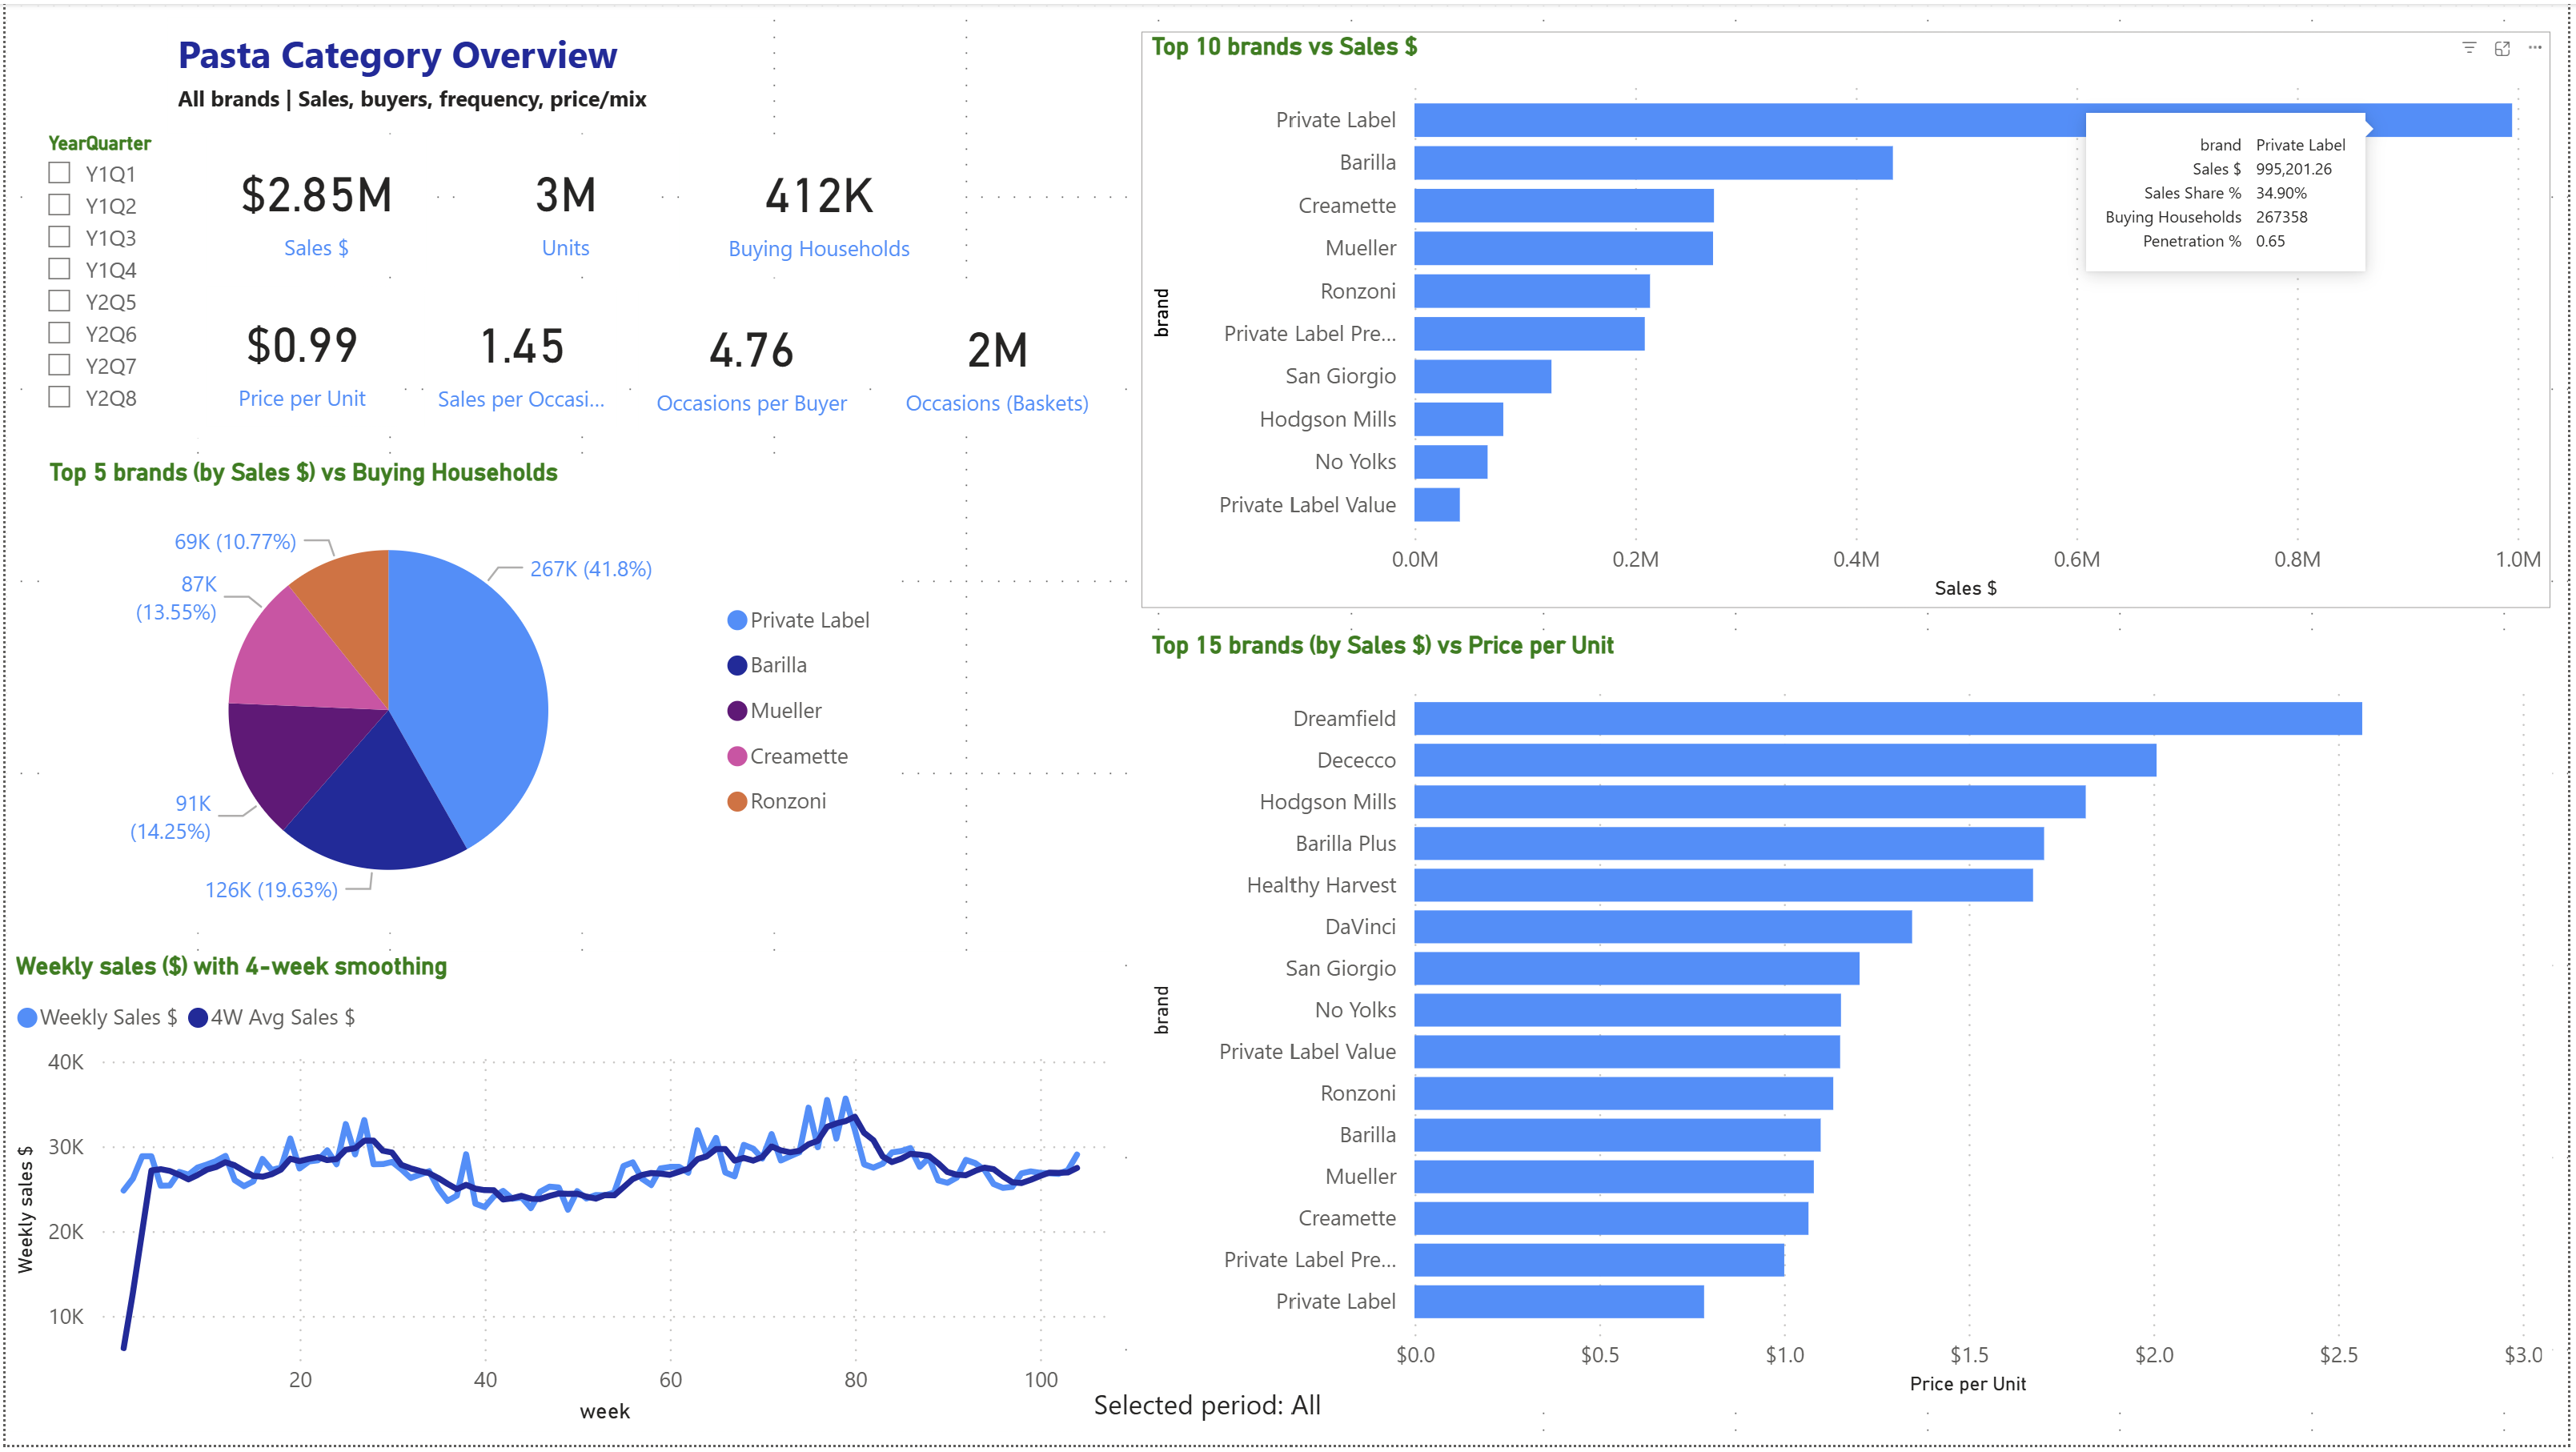

Layout of this report page (visuals, bound fields, positions):
{"tool":"powerbi","page":{"name":"01 Category Overview","canvas":[1280,720],"ordinal":0},"visuals":[{"type":"slicer","fields":{"Values":["DimDay.YearQuarter"]},"box":[8.4,58.8,91.8,157.8],"z":0},{"type":"card","fields":{"Values":["zz_Measures.Sales $"]},"box":[100.2,66,109.8,69.6],"z":1000},{"type":"card","fields":{"Values":["zz_Measures.Units"]},"box":[231.6,66,96,69.6],"z":2000},{"type":"card","fields":{"Values":["zz_Measures.Price per Unit"]},"box":[100,141,95.3,70],"z":3000},{"type":"card","fields":{"Values":["zz_Measures.Buyers (HH)"]},"box":[336.6,66,139.2,70.8],"z":4000},{"type":"card","fields":{"Values":["zz_Measures.Frequency (Occasions per Buyer)"]},"box":[316,143.3,112.7,70],"z":5000},{"type":"card","fields":{"Values":["zz_Measures.Sales per Occasion"]},"box":[209.3,141.7,96,70],"z":6000},{"type":"lineChart","title":"Weekly sales ($) with 4-week smoothing","fields":{"Y":["zz_Measures.Weekly Sales $","zz_Measures.Sales $ (4W Avg)"],"Category":["DimDay.week"]},"box":[0,473.3,554.7,240],"z":7000},{"type":"clusteredBarChart","title":"Top 10 brands vs Sales $","fields":{"Category":["DimProduct.brand"],"Y":["zz_Measures.Sales $"]},"box":[567.6,13.8,703.8,288],"z":8000},{"type":"clusteredBarChart","title":"Top 15 brands (by Sales $) vs Price per Unit","fields":{"Category":["DimProduct.brand"],"Y":["zz_Measures.Price per Unit"]},"box":[567.6,313.2,704.4,386.4],"z":9000},{"type":"pieChart","title":"Top 5 brands (by Sales $) vs Buying Households","fields":{"Category":["DimProduct.brand"],"Y":["zz_Measures.Buying Households"]},"box":[16.7,226.7,429.3,237.3],"z":10000},{"type":"card","fields":{"Values":["zz_Measures.Occasions (Baskets)"]},"box":[435.3,143.3,119.3,70],"z":11000},{"type":"textbox","box":[538.8,684.6,141,30.6],"z":12000},{"type":"textbox","box":[81,6.6,300.6,58.2],"z":13000}]}

Visuals, with their boxes in screenshot pixels (x1, y1, x2, y2), scaled from the page's 1280x720 canvas onto the 2576x1452 screenshot:
slicer - DimDay.YearQuarter: locate(17, 118, 202, 437)
card - zz_Measures.Sales $: locate(202, 133, 423, 274)
card - zz_Measures.Units: locate(466, 133, 660, 274)
card - zz_Measures.Price per Unit: locate(201, 284, 393, 426)
card - zz_Measures.Buyers (HH): locate(677, 133, 957, 276)
card - zz_Measures.Frequency (Occasions per Buyer): locate(636, 289, 863, 430)
card - zz_Measures.Sales per Occasion: locate(421, 286, 615, 427)
"Weekly sales ($) with 4-week smoothing" lineChart: locate(0, 954, 1117, 1438)
"Top 10 brands vs Sales $" clusteredBarChart: locate(1142, 28, 2558, 608)
"Top 15 brands (by Sales $) vs Price per Unit" clusteredBarChart: locate(1142, 632, 2560, 1411)
"Top 5 brands (by Sales $) vs Buying Households" pieChart: locate(34, 457, 897, 936)
card - zz_Measures.Occasions (Baskets): locate(876, 289, 1116, 430)
textbox: locate(1085, 1381, 1368, 1442)
textbox: locate(163, 14, 768, 130)
